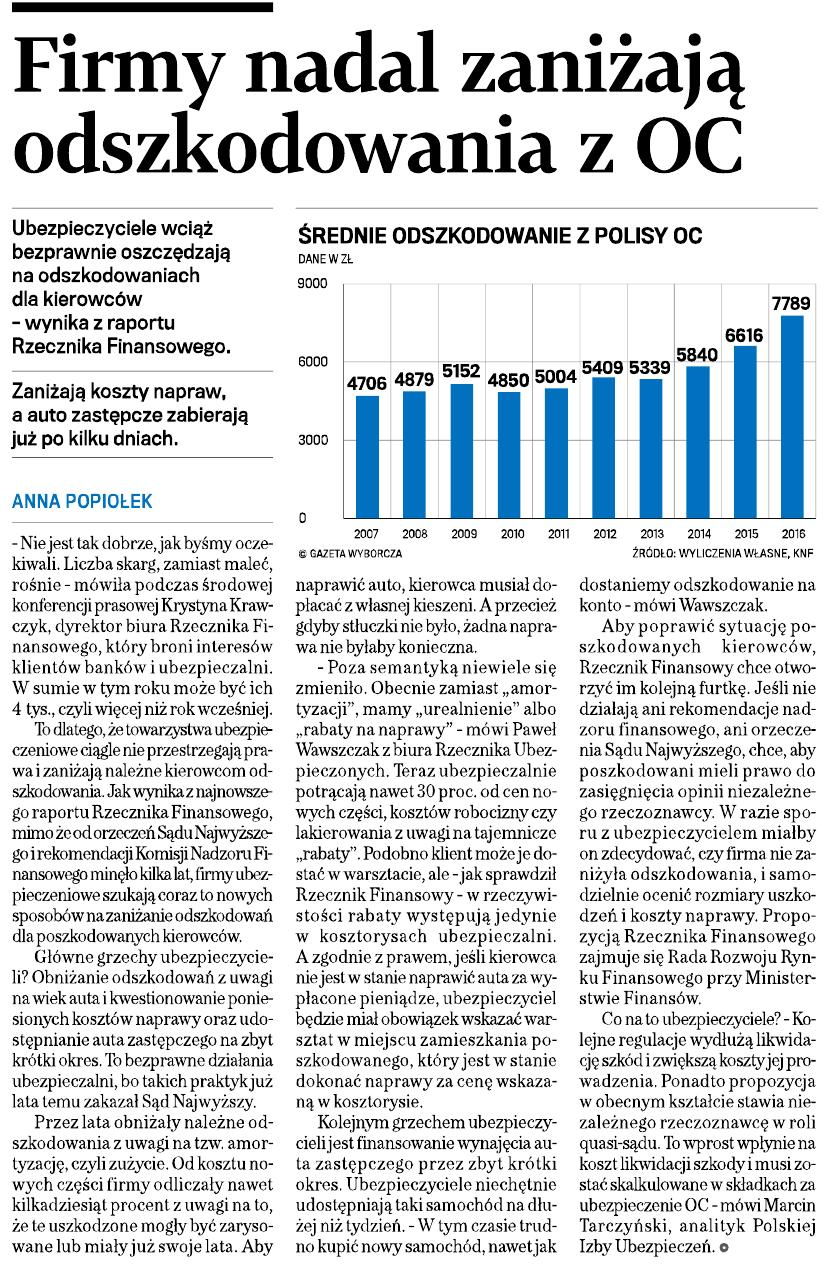author: (8, 484, 159, 516)
body: (3, 533, 282, 1265), (288, 576, 561, 1260), (566, 576, 826, 1260)
caption: (294, 218, 708, 248)
image: (291, 245, 822, 545)
lead: (4, 211, 279, 453)
title: (8, 19, 784, 191)
